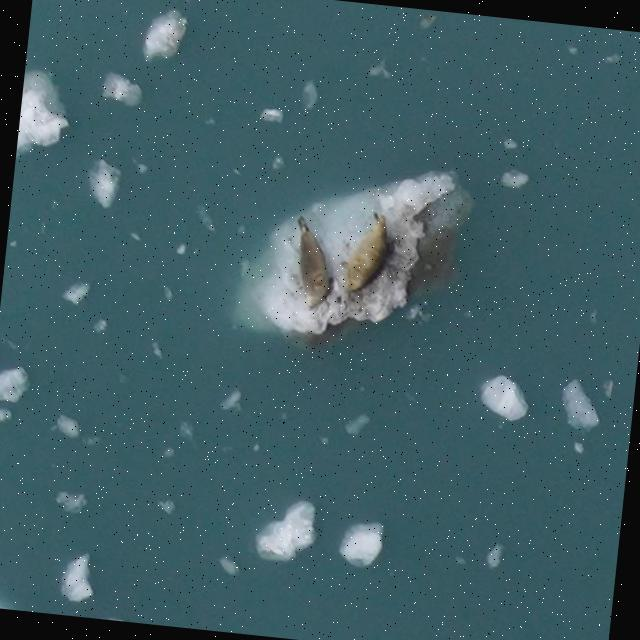seal: (342, 212, 388, 290), (298, 216, 332, 310)
